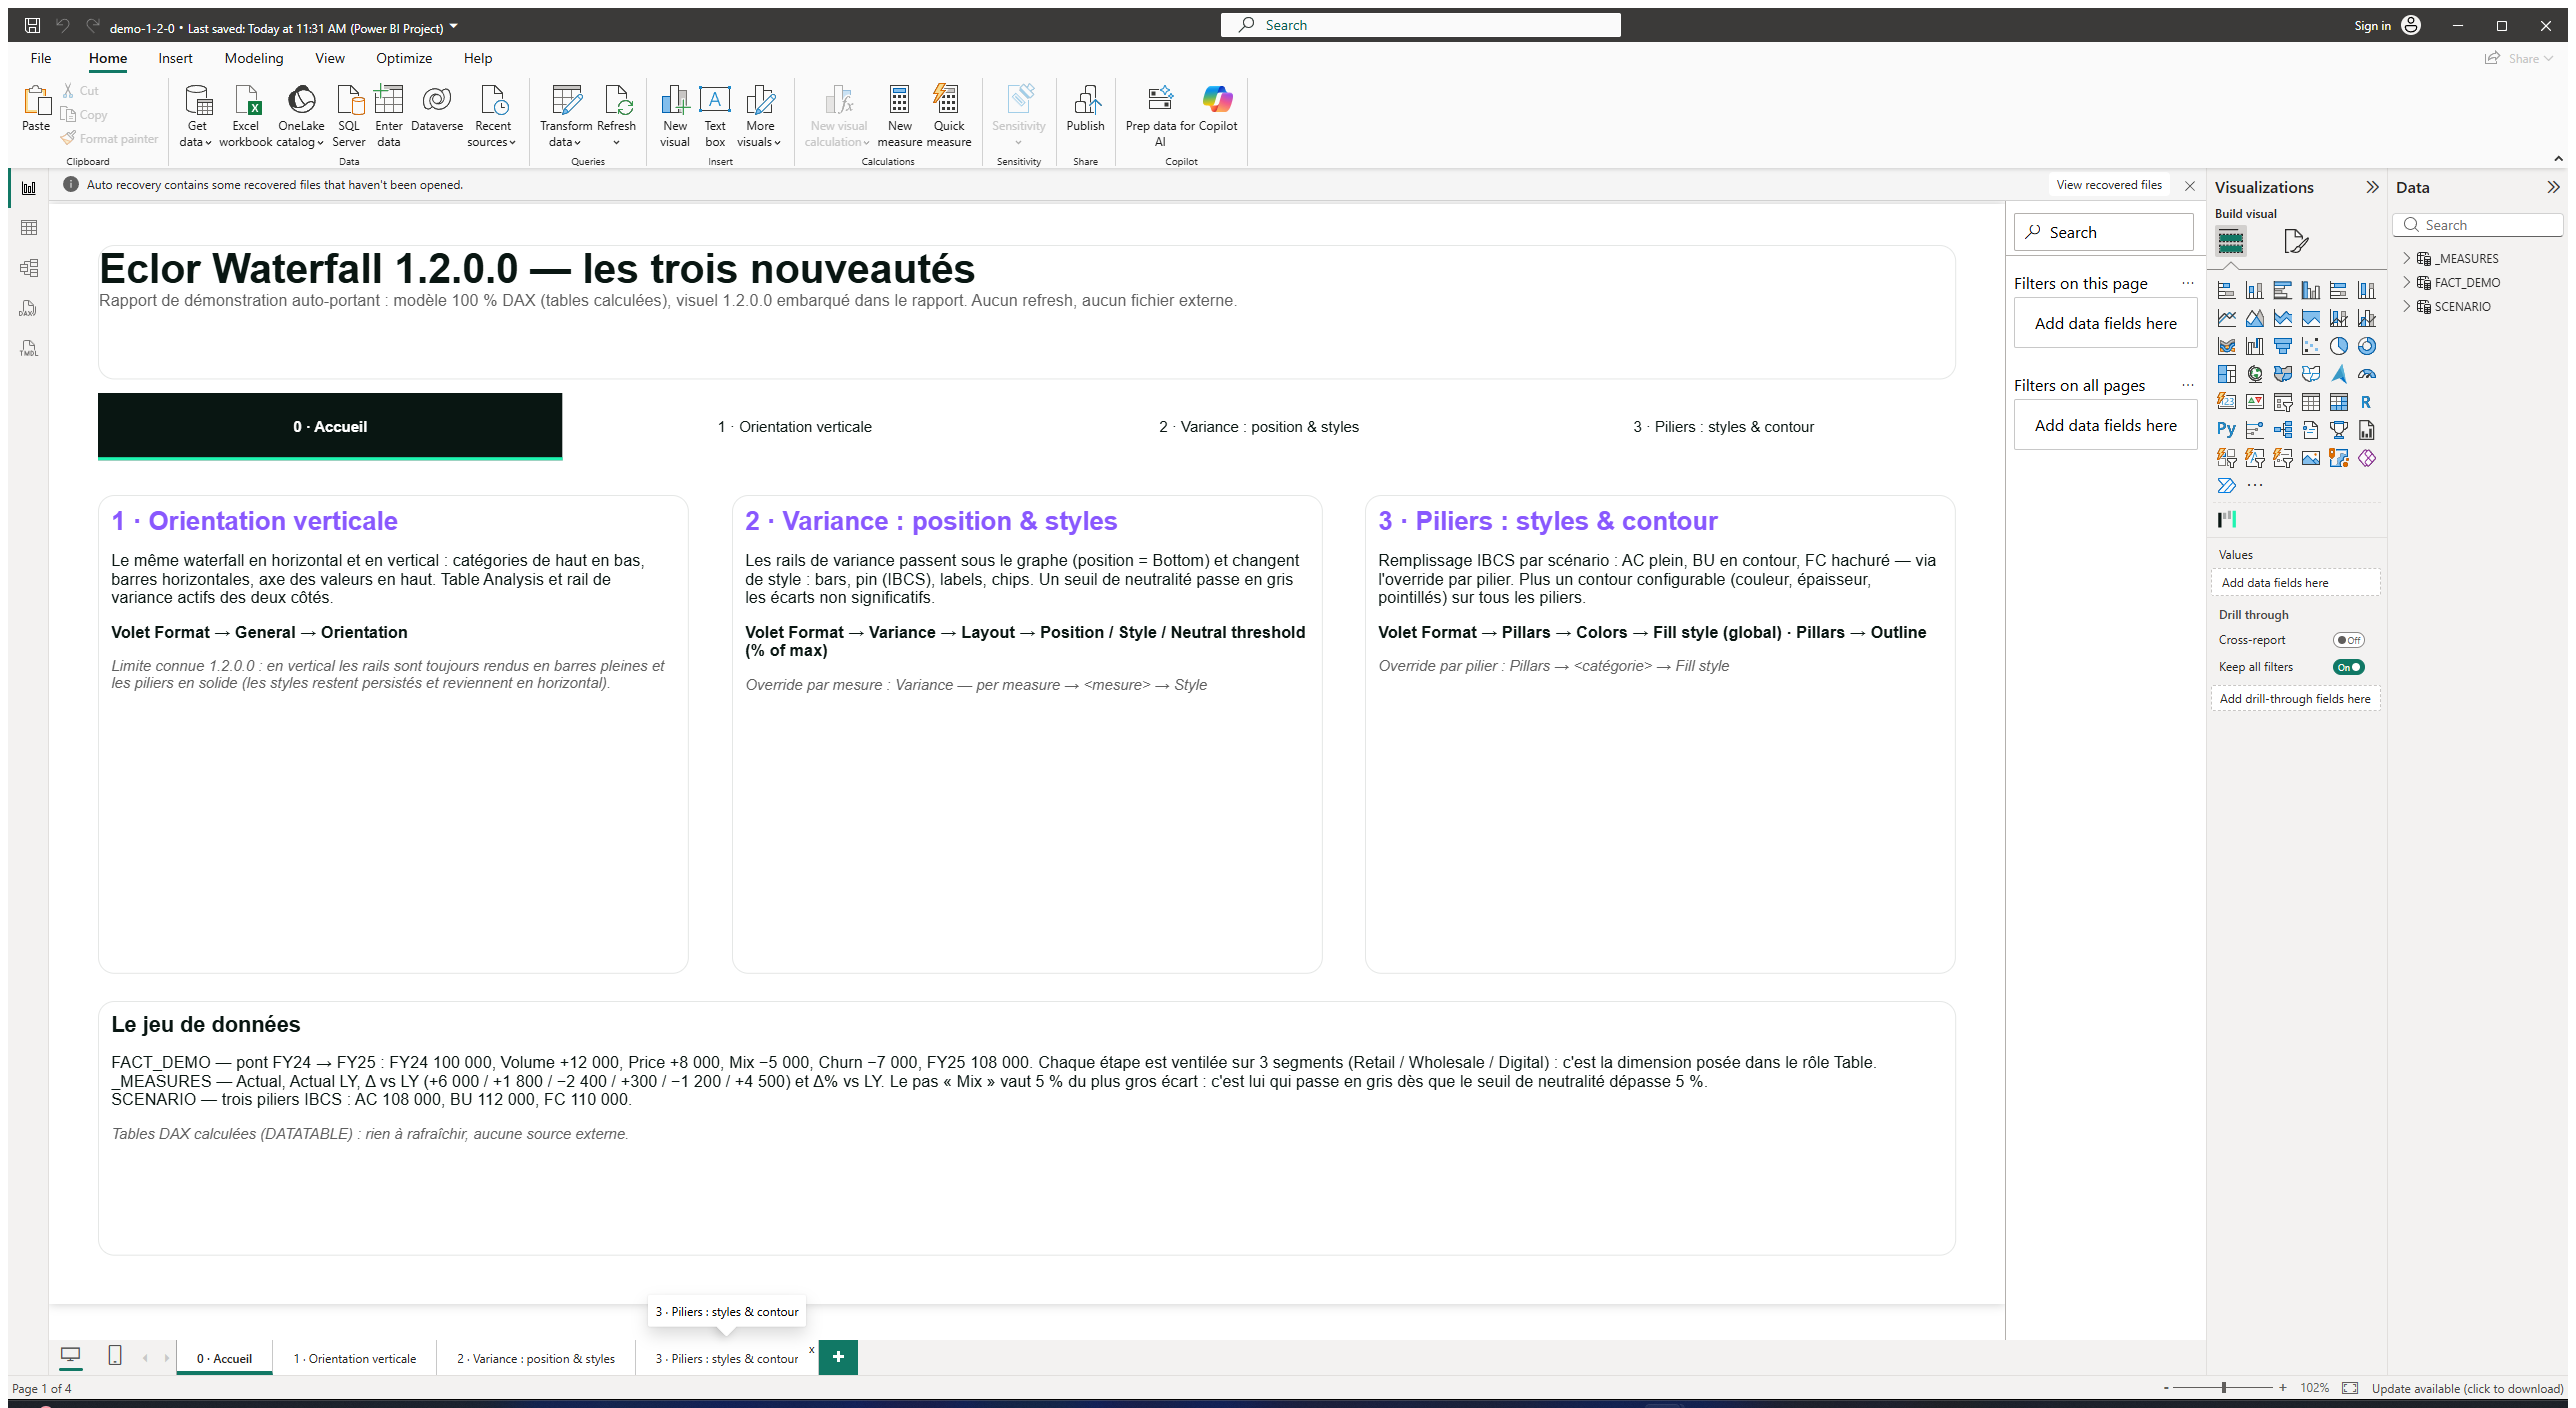

What the dashboard file says about the page in this screenshot:
{"tool":"powerbi","page":{"name":"Getting started","canvas":[1920,1080],"ordinal":0},"visuals":[{"type":"shape","box":[35,35,1850,105],"z":0},{"type":"textbox","box":[35,175,907.5,417.5],"z":100},{"type":"textbox","box":[977.5,175,907.5,417.5],"z":100},{"type":"textbox","box":[35,627.5,907.5,417.5],"z":100},{"type":"textbox","box":[977.5,627.5,907.5,417.5],"z":100},{"type":"pageNavigator","box":[334.4,57,1249.6,62.8],"z":200},{"type":"image","box":[69.7,51,69,69],"z":400}]}

Visuals, with their boxes on the page's 1920x1080 design canvas (x1, y1, x2, y2). These are canvas units, not pixel positions in the 2576x1408 screenshot, which may show the page scaled, cropped or inside an application window:
shape: region(35, 35, 1885, 140)
textbox: region(35, 175, 942, 592)
textbox: region(978, 175, 1885, 592)
textbox: region(35, 628, 942, 1045)
textbox: region(978, 628, 1885, 1045)
pageNavigator: region(334, 57, 1584, 120)
image: region(70, 51, 139, 120)
